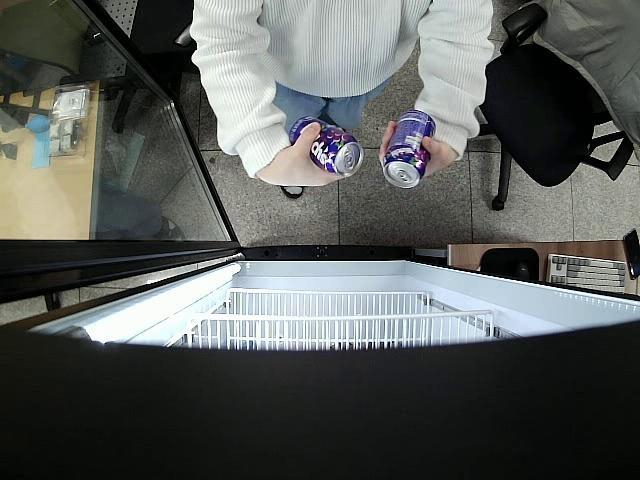14_welchsGrape: (289, 117, 364, 178), (380, 110, 435, 189)
